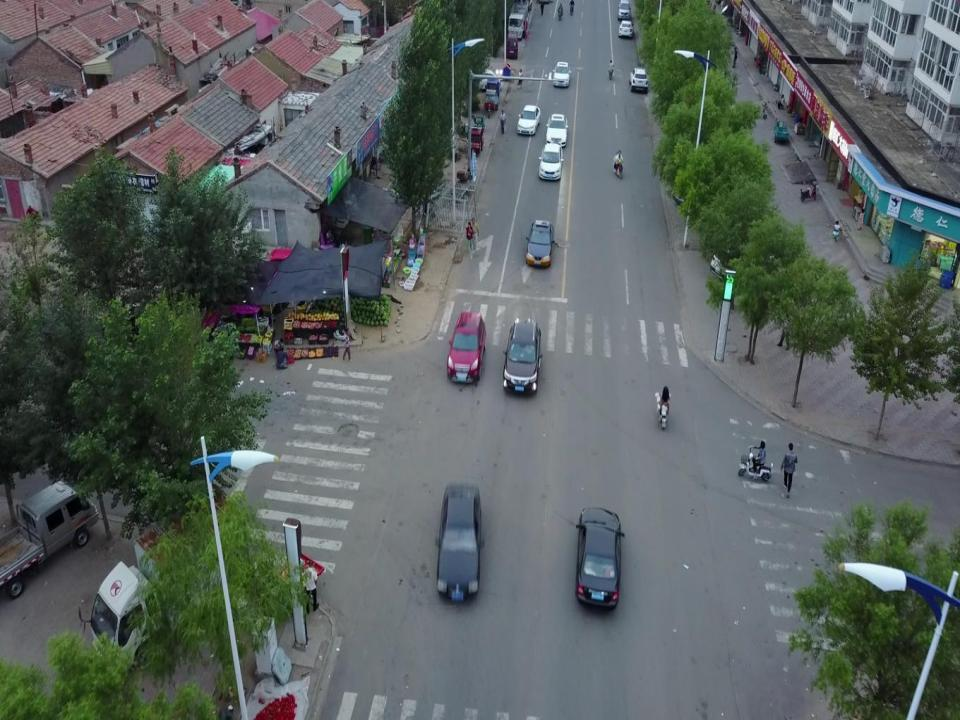car: (436, 479, 482, 599), (578, 508, 621, 607), (504, 318, 542, 393), (450, 311, 487, 379), (528, 218, 554, 264), (538, 142, 562, 179), (509, 0, 529, 40), (518, 102, 540, 136), (546, 114, 568, 145), (628, 67, 649, 93), (552, 60, 570, 88), (618, 18, 634, 38)
truck: (92, 508, 230, 656), (0, 480, 98, 578)
van: (619, 2, 633, 19)
